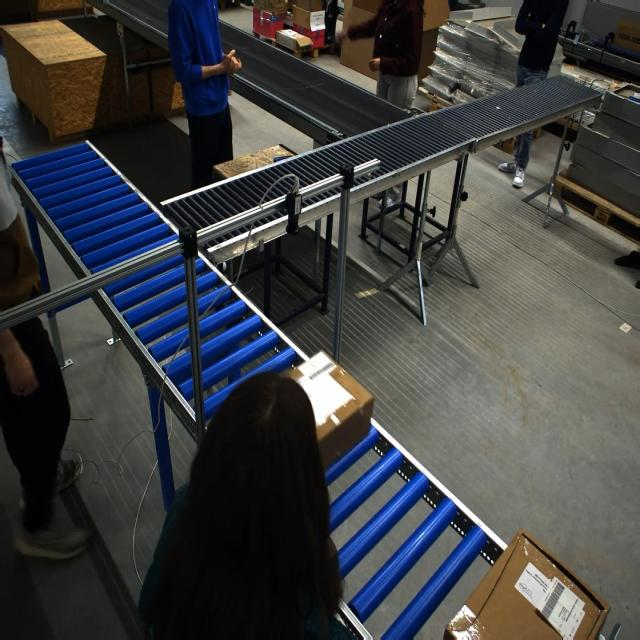box: (443, 527, 610, 640), (285, 349, 365, 454), (276, 28, 315, 58)
